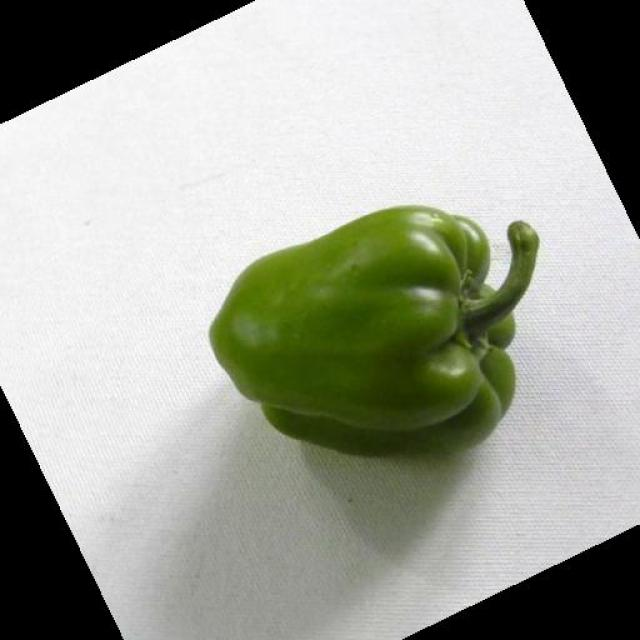Fresh_Capsicum: (198, 216, 547, 436)
